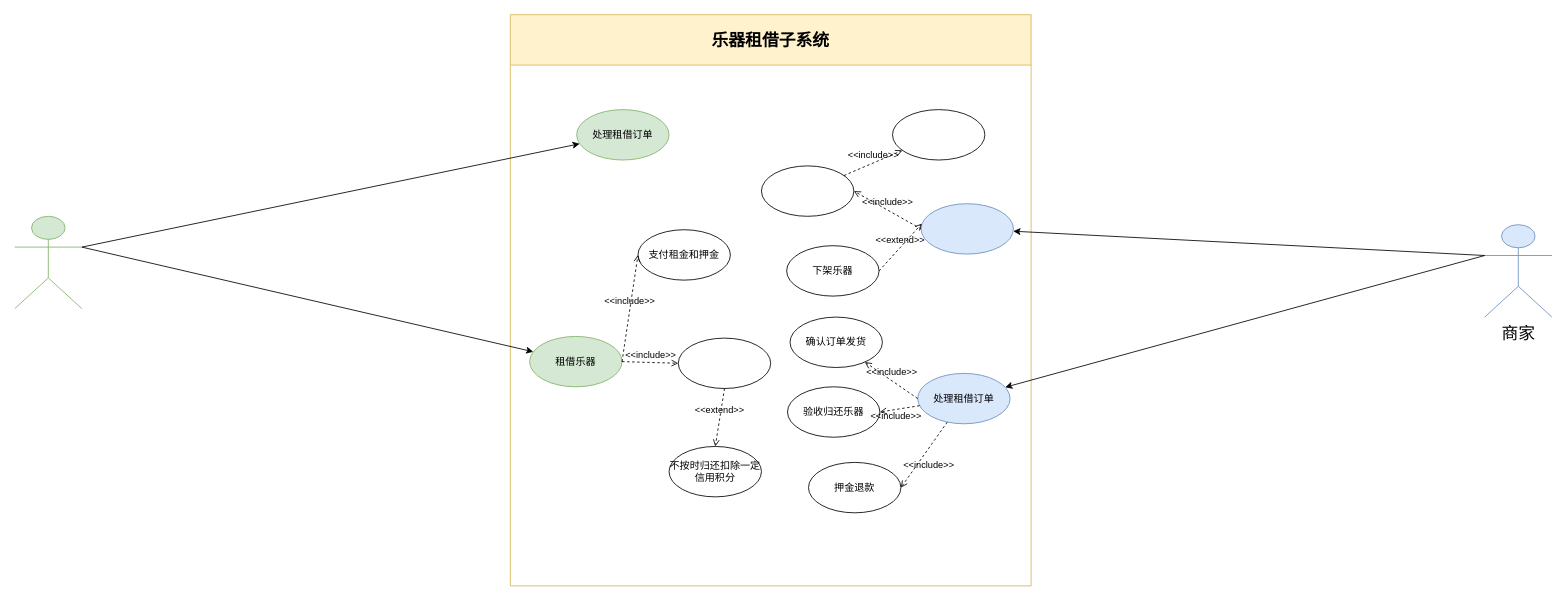
Image size: 1567x601. Some labels were removed from this diagram. The shapes that lost their labels are listed below. From the top down, each one's centre as x and y in pixels, then its label:
[938,134]: 填写乐器信息
[807,190]: 上架乐器
[966,228]: 上架/下架乐器
[48,262]: 买家
[724,362]: 按时归还乐器
